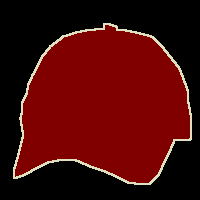hat: (14, 24, 191, 184)
